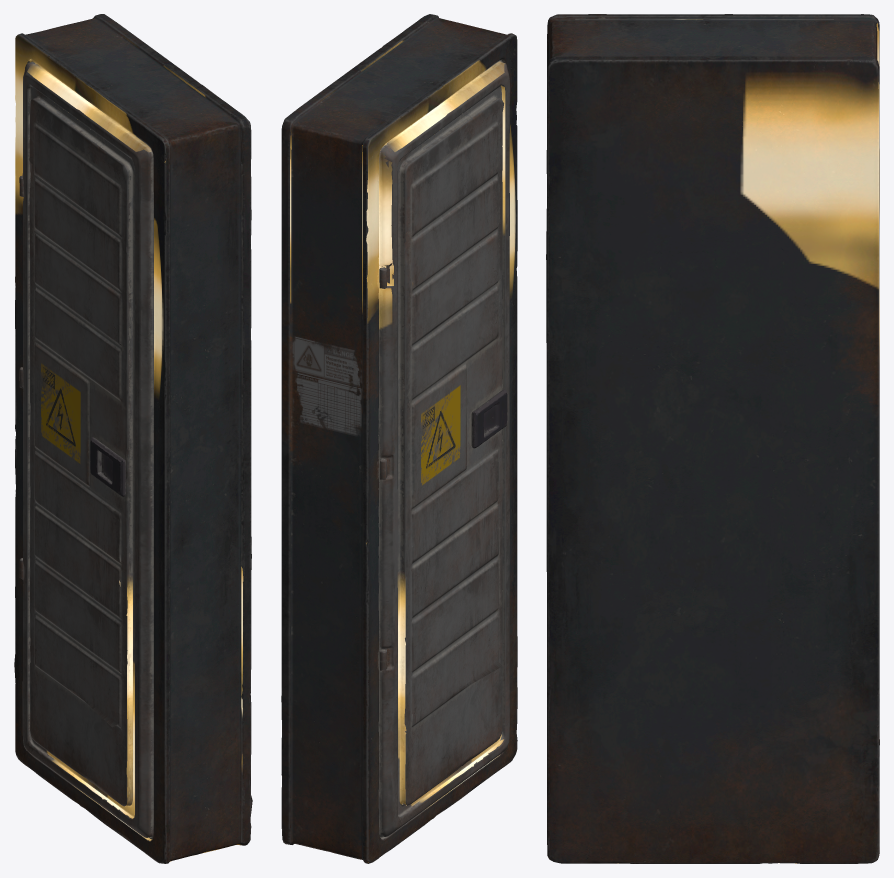
The model's file is SM_Electrical_Cabinet_01a.fbx.
3 renders of one model, left to right at view 1: azimuth 30°, elevation 25°; view 2: azimuth 150°, elevation 25°; view 3: azimuth 270°, elevation 25°, orthographic. The views are drawn at different scales.
Visible parts, largest first — view 1: SM_Electrical_Cabinet_01a_LOD0; view 2: SM_Electrical_Cabinet_01a_LOD0; view 3: SM_Electrical_Cabinet_01a_LOD0.
Boxes of the visible parts, bbox=[...] form: SM_Electrical_Cabinet_01a_LOD0: bbox=[14, 14, 252, 863]; SM_Electrical_Cabinet_01a_LOD0: bbox=[281, 14, 517, 863]; SM_Electrical_Cabinet_01a_LOD0: bbox=[546, 14, 879, 863].
Bounding box in the file's own units: 12.41 × 30.09 × 80.03.
